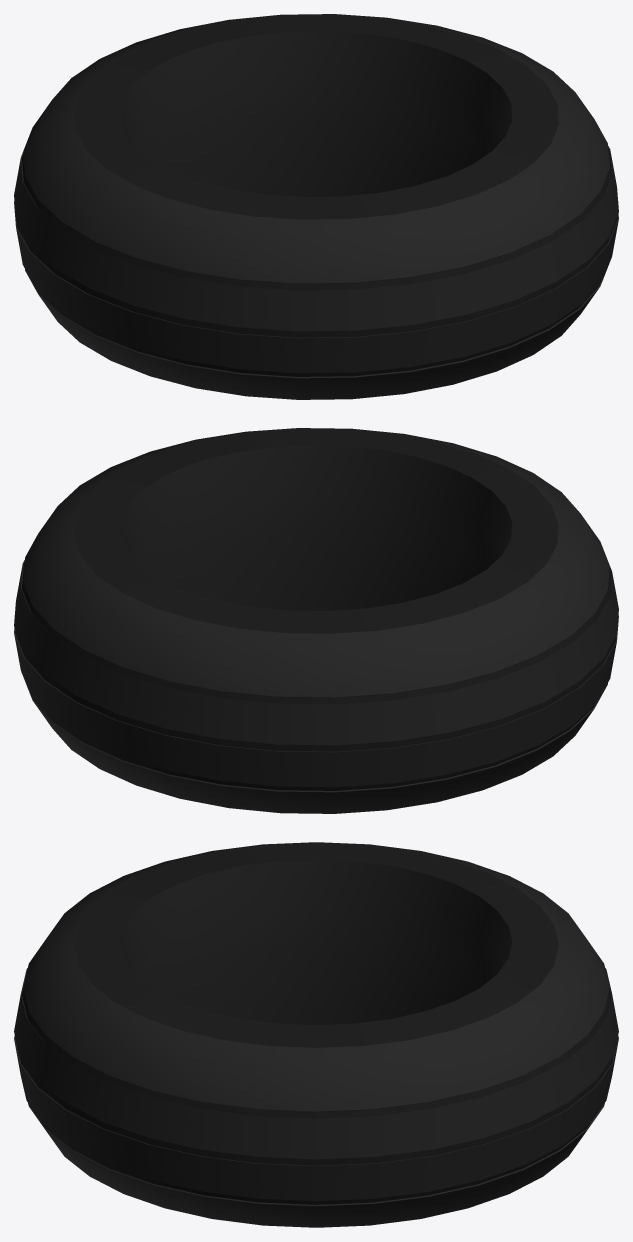
Rendered from LunTai_MoTuo_1X3.FBX.
3 renders of one model, top to bottom at view 1: azimuth 30°, elevation 25°; view 2: azimuth 150°, elevation 25°; view 3: azimuth 270°, elevation 25°, orthographic.
Parts seen in each view (by area): view 1: Box002; view 2: Box002; view 3: Box002.
Boxes of the visible parts, x1=… form: Box002: x1=14, y1=14, x2=618, y2=399; Box002: x1=14, y1=428, x2=618, y2=813; Box002: x1=14, y1=842, x2=618, y2=1227.
Size of the model in its own units: 0.3062 by 0.1034 by 0.3062.
